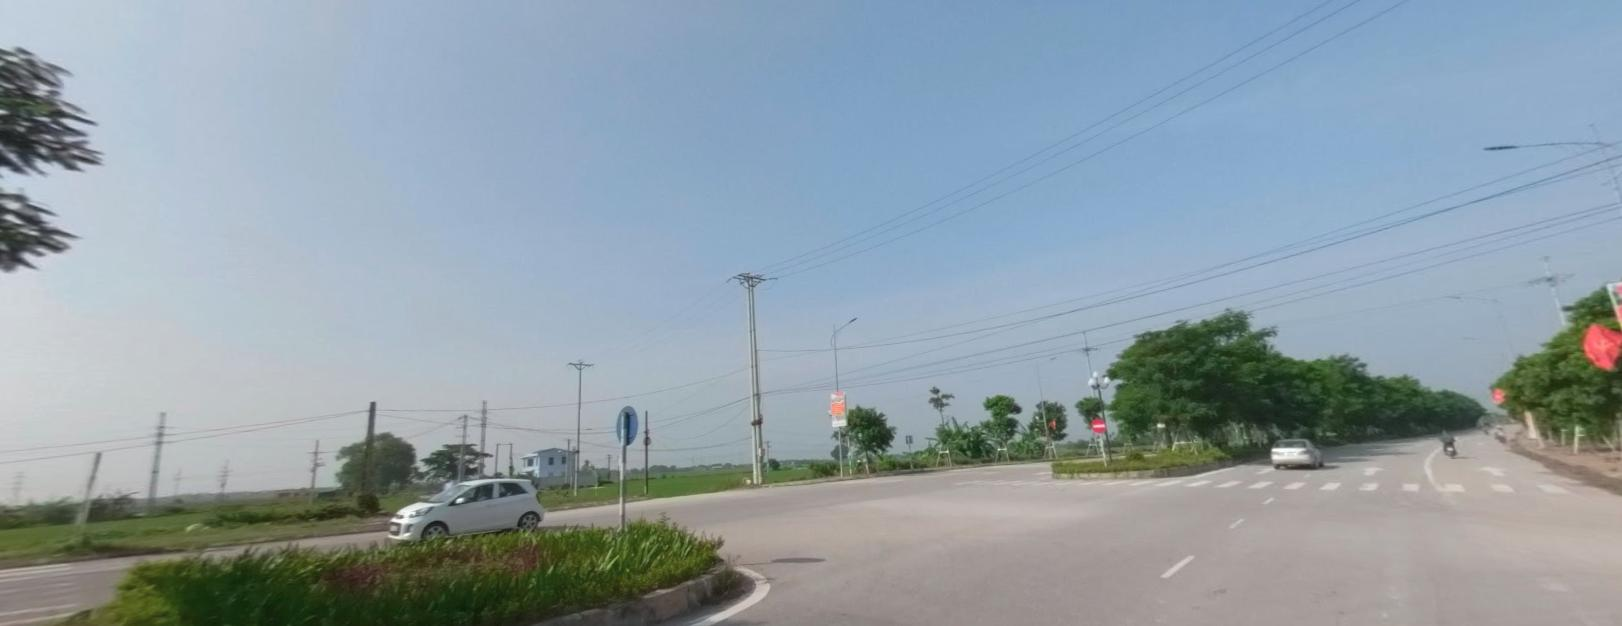Cam nguoc chieu: (1090, 415, 1105, 431)
